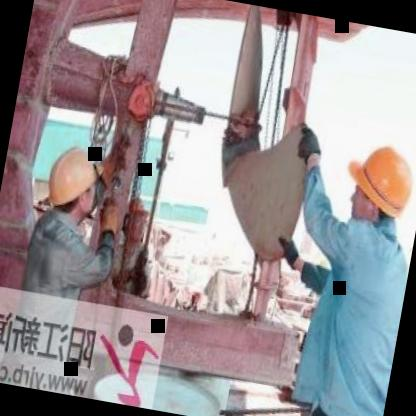helmet: (338, 129, 416, 237), (38, 138, 102, 226), (118, 192, 154, 244)
